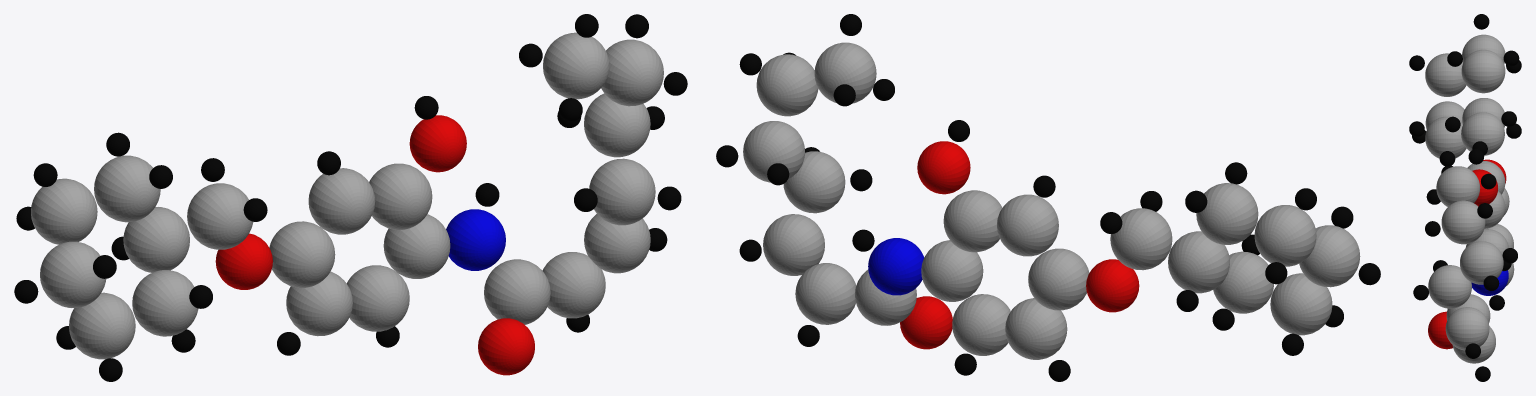
File: Capsaicin.glb
3 views of the same model, side by side, from view 1: azimuth 30°, elevation 25°; view 2: azimuth 150°, elevation 25°; view 3: azimuth 270°, elevation 25° (orthographic). The views are drawn at different scales.
Visible parts, largest first — view 1: world; view 2: world; view 3: world.
Boxes of the visible parts, <box> form: world: <box>14,14,687,381</box>; world: <box>716,14,1380,381</box>; world: <box>1409,14,1521,381</box>.
Bounding box in the file's own units: 16.45 × 7.88 × 3.6.
